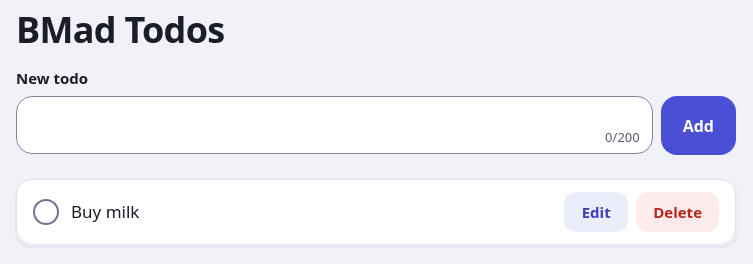
Test case: Delete confirm › K4 Cancel closes the confirm with nothing sent, and focus returns to Delete
This screenshot has width=753, height=264.
Click the button with aria-label "Delete “Buy milk”" at [678, 212], box [636,192,719,232]
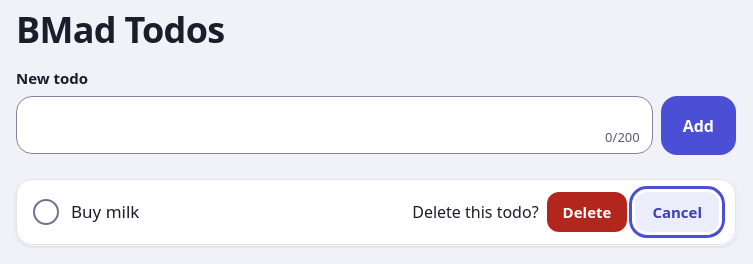
Click the button "Cancel" at [677, 212], box [635,192,719,232]
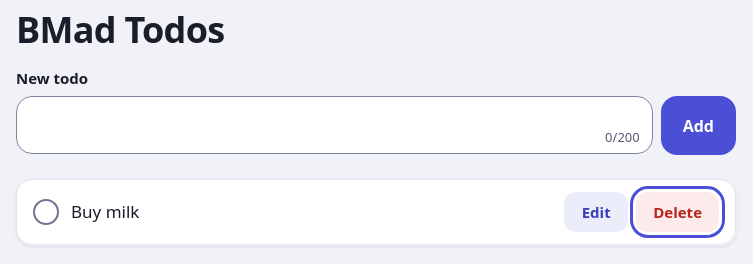
expect the checkbox labelled "Buy milk" is shown: met, box [33,199,59,225]
expect the button with aria-label "Edit “Buy milk”" is shown: met, box [564,192,628,232]
